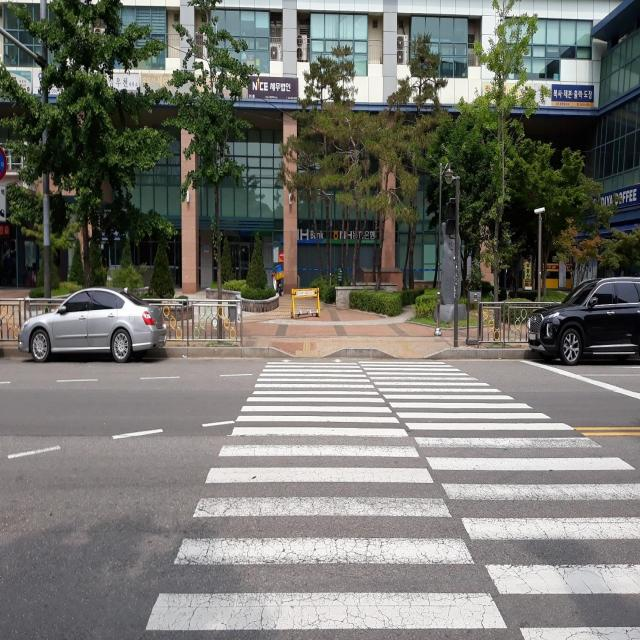횡단보도: (141, 357, 640, 639)
